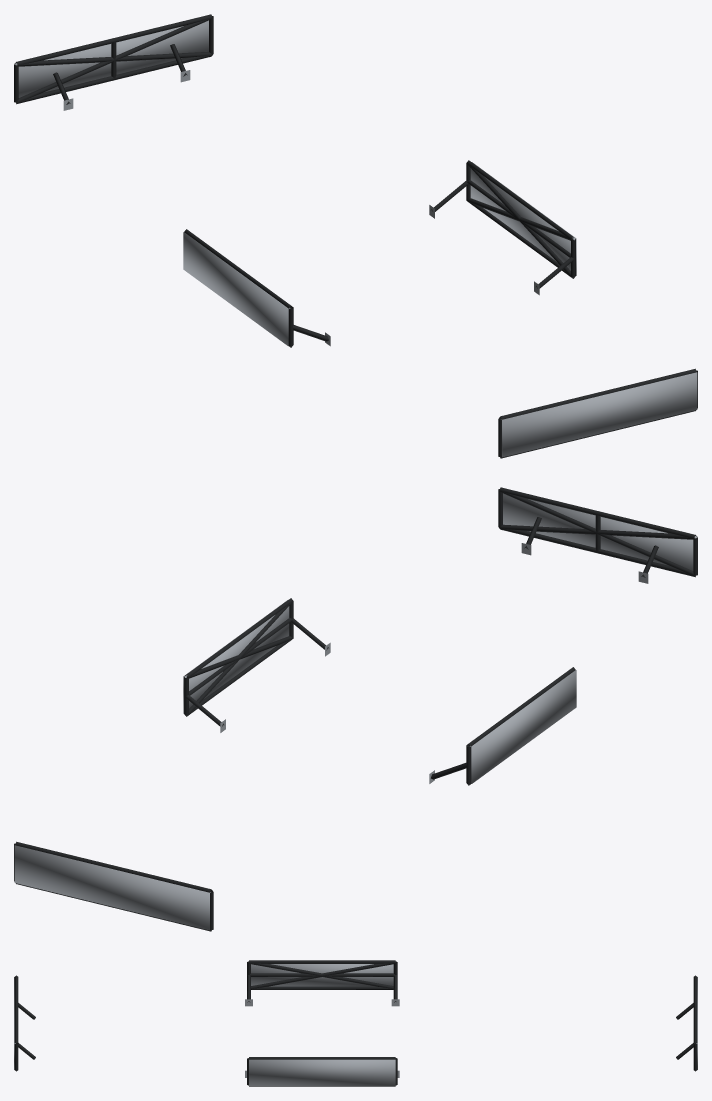
Rendered from brakhaus_sentinela_protecao.glb.
3 renders of one model, top to bottom at view 1: azimuth 30°, elevation 25°; view 2: azimuth 150°, elevation 25°; view 3: azimuth 270°, elevation 25°, orthographic. The views are drawn at different scales.
Visible parts, largest first — view 1: Protection_front_Level3_Details, Protection_rear_Level3_Details, Protection_left_Level3_Details, Protection_rear_Level1_Details, Protection_right_Level3_Details, Protection_rear_Level2_Details, Protection_right_Level1_Details, Protection_right_Level2_Details, Protection_front_Level1_Details, Protection_left_Level1_Details; view 2: Protection_rear_Level3_Details, Protection_front_Level3_Details, Protection_left_Level3_Details, Protection_front_Level1_Details, Protection_right_Level3_Details, Protection_front_Level2_Details, Protection_right_Level1_Details, Protection_right_Level2_Details, Protection_rear_Level1_Details, Protection_left_Level1_Details; view 3: Protection_right_Level3_Details, Protection_left_Level3_Details, Protection_left_Level2_Details, Protection_left_Level1_Details, Protection_right_Level1_Details, Protection_rear_Level1_Details, Protection_front_Level1_Details.
Boxes of the visible parts, x1,y1,x2,y2 form: Protection_front_Level3_Details: [501, 372, 697, 457]; Protection_rear_Level3_Details: [14, 20, 208, 97]; Protection_left_Level3_Details: [183, 232, 290, 345]; Protection_rear_Level1_Details: [14, 14, 213, 110]; Protection_right_Level3_Details: [470, 162, 576, 275]; Protection_rear_Level2_Details: [15, 18, 212, 103]; Protection_right_Level1_Details: [429, 160, 575, 295]; Protection_right_Level2_Details: [466, 164, 574, 278]; Protection_front_Level1_Details: [498, 368, 697, 458]; Protection_left_Level1_Details: [184, 229, 330, 347]; Protection_rear_Level3_Details: [14, 845, 210, 930]; Protection_front_Level3_Details: [503, 493, 697, 570]; Protection_left_Level3_Details: [469, 670, 576, 783]; Protection_front_Level1_Details: [498, 487, 697, 583]; Protection_right_Level3_Details: [183, 600, 289, 713]; Protection_front_Level2_Details: [499, 491, 696, 576]; Protection_right_Level1_Details: [184, 598, 330, 732]; Protection_right_Level2_Details: [185, 602, 293, 716]; Protection_rear_Level1_Details: [14, 841, 213, 931]; Protection_left_Level1_Details: [429, 667, 575, 785]; Protection_right_Level3_Details: [249, 1059, 395, 1085]; Protection_left_Level3_Details: [251, 964, 393, 986]; Protection_left_Level2_Details: [248, 962, 395, 988]; Protection_left_Level1_Details: [245, 960, 399, 1006]; Protection_right_Level1_Details: [245, 1057, 399, 1086]; Protection_rear_Level1_Details: [676, 975, 697, 1070]; Protection_front_Level1_Details: [14, 975, 35, 1070].
Bounding box in the file's own units: 3.23 × 0.512 × 9.46.
1 material, 1 textured.
